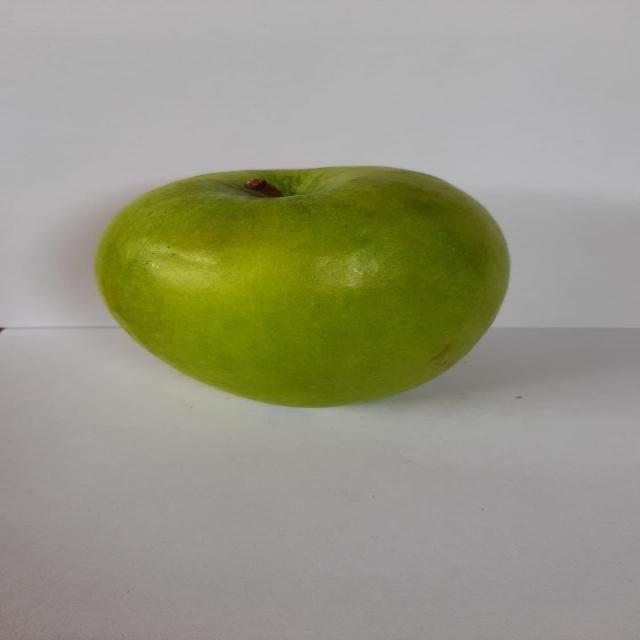50-_ripeness: (91, 153, 527, 419)
